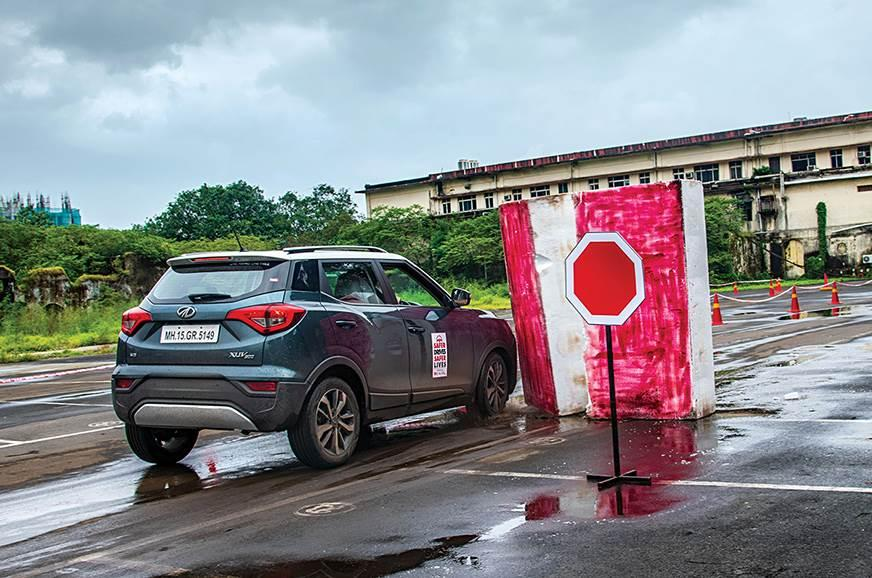car: (95, 220, 520, 476)
